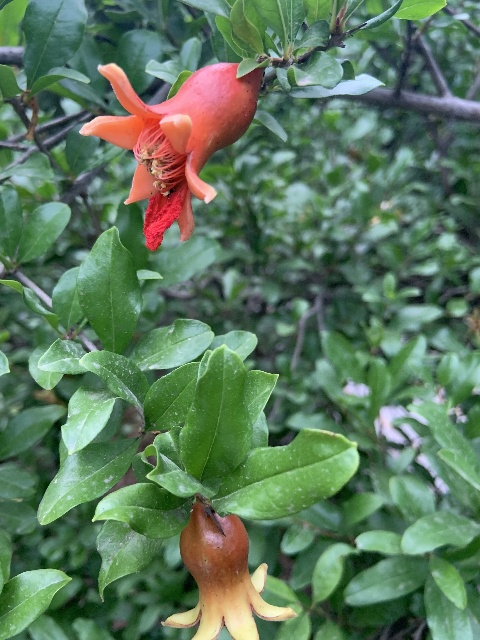early-fruit: (161, 501, 299, 640)
flower: (78, 59, 261, 250)
